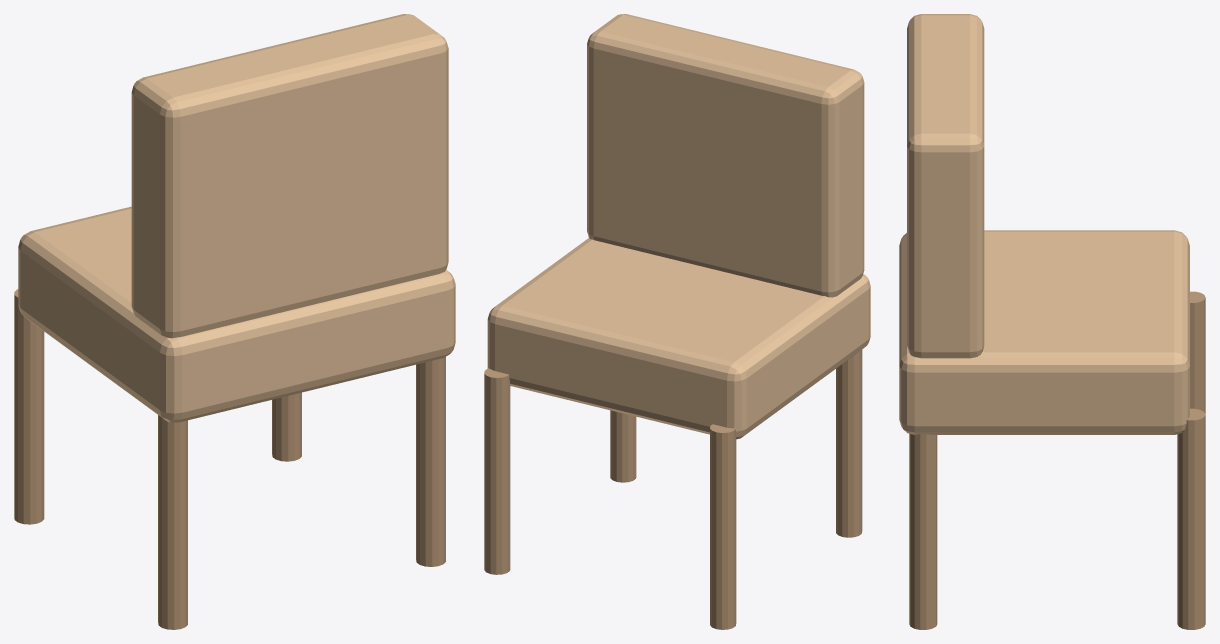
Rendered from test_v2_chair.glb.
3 views of the same model, side by side, from view 1: azimuth 30°, elevation 25°; view 2: azimuth 150°, elevation 25°; view 3: azimuth 270°, elevation 25° (orthographic). The views are drawn at different scales.
Visible parts, largest first — view 1: Cylinder; view 2: Cylinder; view 3: Cylinder.
Boxes of the visible parts, x1,y1,x2,y2 form: Cylinder: [14, 14, 455, 629]; Cylinder: [484, 14, 870, 629]; Cylinder: [899, 14, 1205, 629].
Size of the model in its own units: 0.492 by 0.8436 by 0.477.
